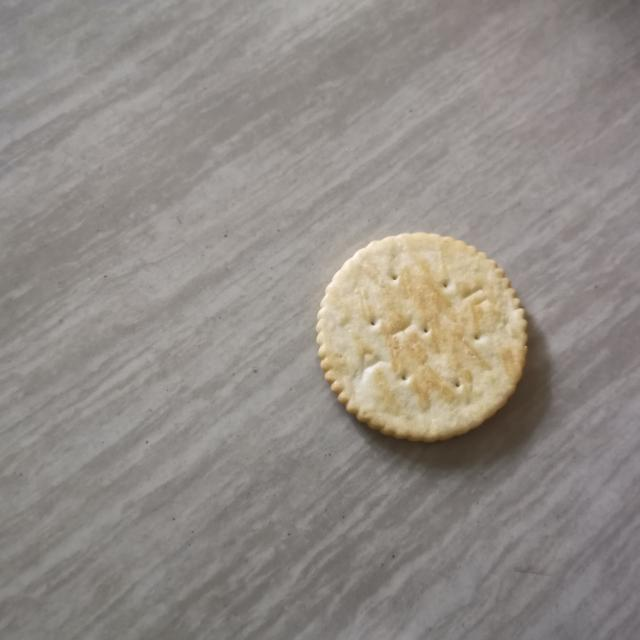Intact: (305, 218, 535, 447)
